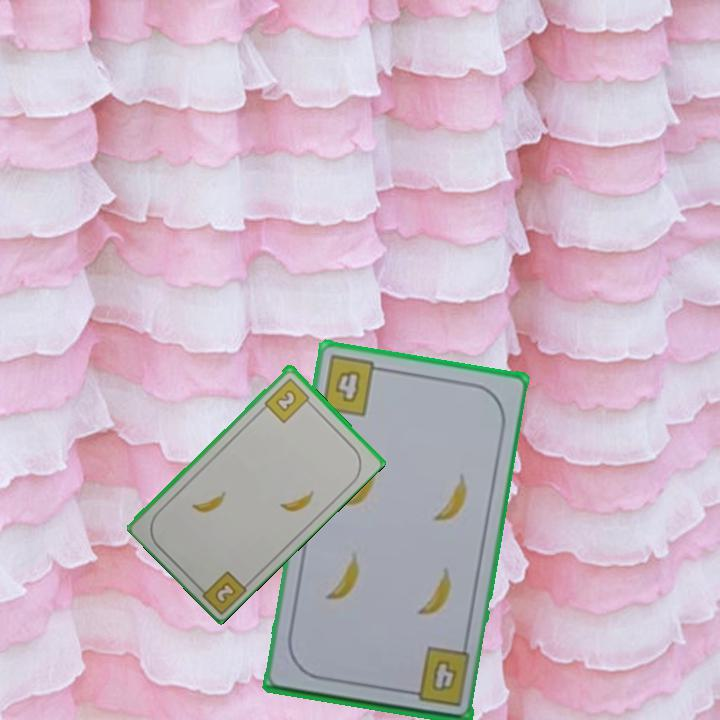2b: (261, 374, 315, 425), (211, 578, 239, 607)
4b: (317, 352, 388, 419), (431, 655, 459, 691)
